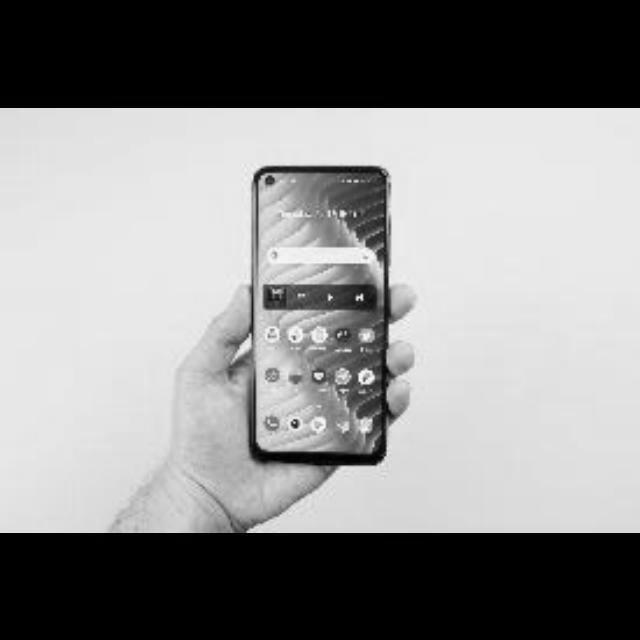fake: (248, 161, 396, 462)
